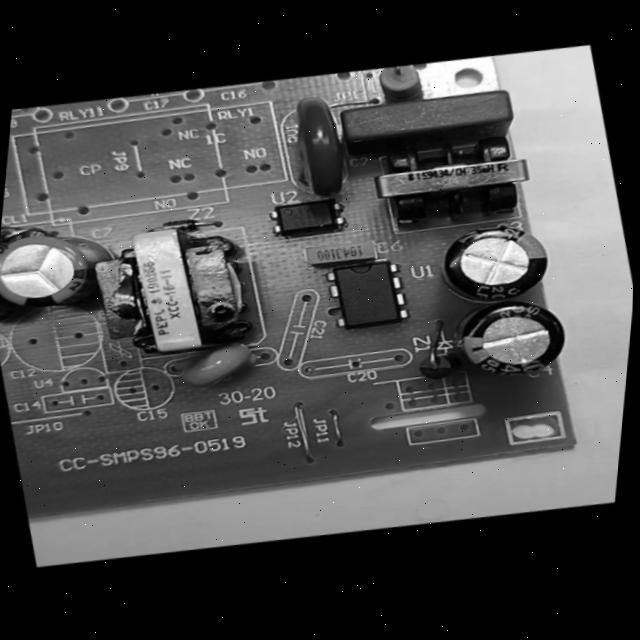Cap1: (0, 214, 131, 332)
Cap2: (0, 259, 18, 326)
Cap3: (424, 210, 565, 317)
Cap4: (431, 284, 587, 397)
MOSFET: (312, 250, 419, 341)
Mov: (267, 77, 369, 212)
Resistor: (371, 60, 433, 111)
Transformer: (77, 204, 277, 374), (356, 111, 552, 252)
